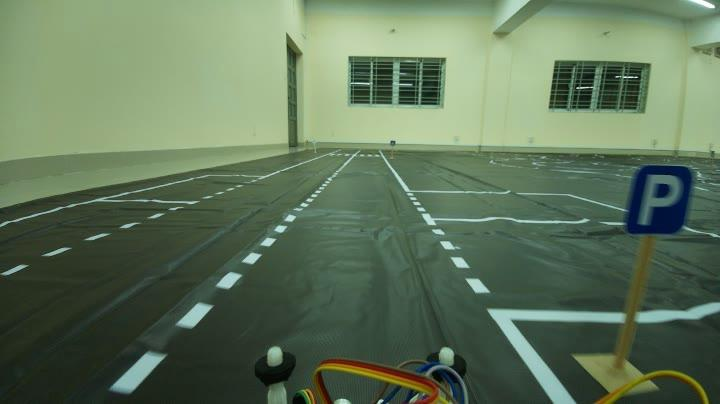parking: (624, 159, 692, 237)
